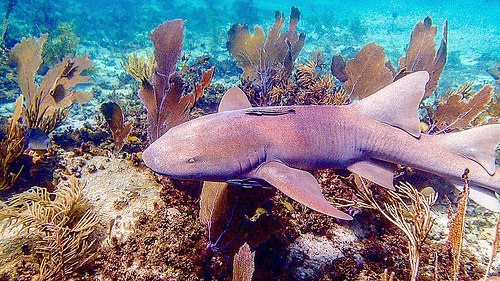shark: (123, 34, 498, 240)
